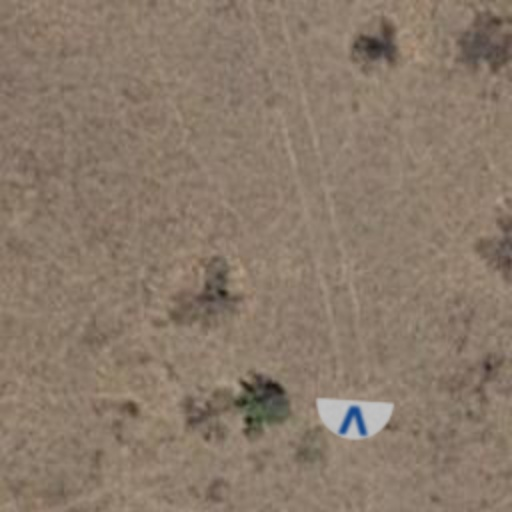semicircle: (312, 378, 396, 462)
